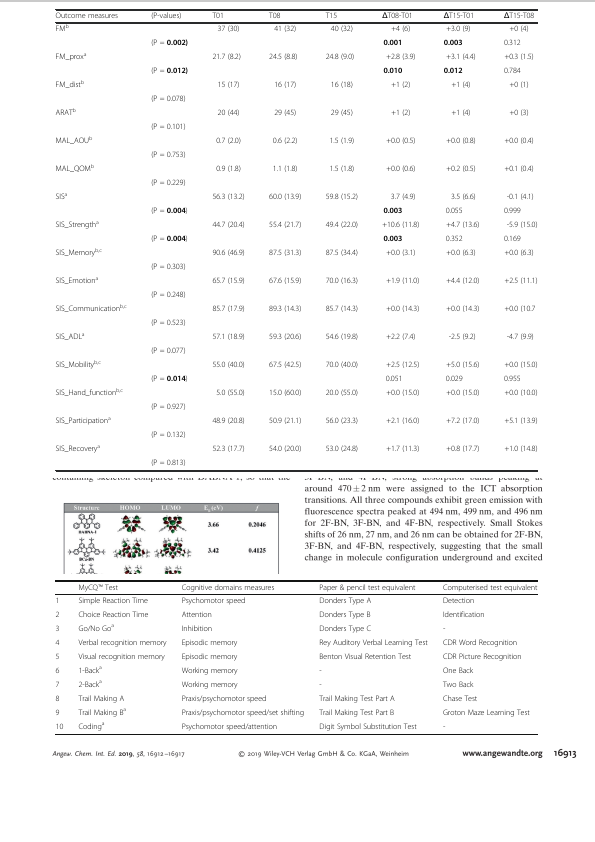borderless: (54, 7, 537, 470), (55, 579, 538, 734)
cell: (181, 708, 305, 718), (318, 638, 429, 648), (318, 722, 418, 732), (181, 722, 278, 732), (318, 652, 412, 662), (77, 638, 167, 648), (77, 652, 166, 662), (442, 708, 531, 718), (318, 583, 416, 592), (442, 583, 538, 592), (181, 694, 267, 704), (181, 583, 275, 592), (442, 652, 523, 662), (55, 303, 128, 314), (318, 694, 396, 704), (318, 708, 395, 718), (442, 638, 518, 648), (55, 387, 124, 398), (77, 596, 149, 606), (77, 610, 149, 620), (181, 596, 246, 606), (55, 415, 112, 426), (77, 706, 127, 718), (181, 666, 239, 676), (181, 680, 239, 690), (55, 12, 119, 21), (181, 638, 238, 648), (181, 652, 238, 662), (318, 596, 372, 606), (318, 624, 372, 634), (318, 610, 371, 620), (55, 247, 103, 258), (55, 359, 102, 370), (55, 443, 101, 454), (55, 219, 100, 230), (55, 275, 99, 286), (77, 694, 125, 704), (77, 622, 115, 634), (55, 163, 95, 174), (442, 610, 485, 620), (55, 135, 93, 146), (77, 583, 119, 592), (442, 694, 478, 704), (55, 51, 87, 62), (150, 39, 189, 48), (150, 67, 189, 76), (150, 207, 189, 216), (381, 221, 420, 230), (150, 235, 189, 244), (150, 375, 189, 384), (77, 720, 105, 732), (442, 596, 475, 606), (55, 79, 85, 90), (55, 331, 85, 342), (150, 95, 186, 104), (150, 123, 186, 132), (150, 151, 186, 160), (150, 179, 186, 188), (150, 263, 186, 272), (150, 291, 186, 300), (150, 319, 186, 328), (150, 347, 186, 356), (150, 403, 186, 412), (150, 431, 186, 440), (150, 459, 186, 468), (181, 610, 213, 620), (181, 624, 213, 634), (442, 666, 474, 676), (442, 680, 474, 690), (211, 193, 246, 202), (211, 221, 246, 230), (445, 221, 480, 230), (211, 249, 246, 258), (211, 277, 246, 286), (385, 277, 420, 286), (445, 277, 480, 286), (503, 277, 538, 286), (211, 305, 246, 314), (385, 305, 420, 314), (445, 305, 480, 314), (211, 333, 246, 342), (211, 361, 246, 370), (385, 361, 420, 370), (445, 361, 480, 370), (503, 361, 538, 370), (385, 389, 420, 398), (445, 389, 480, 398), (503, 389, 538, 398), (211, 417, 246, 426), (385, 417, 420, 426), (445, 417, 480, 426), (503, 417, 538, 426), (211, 445, 246, 454), (385, 445, 420, 454), (445, 445, 480, 454), (503, 445, 538, 454), (77, 664, 103, 676), (77, 678, 103, 690), (268, 193, 302, 202), (325, 193, 359, 202), (268, 221, 302, 230), (325, 221, 359, 230), (268, 249, 302, 258), (325, 249, 359, 258), (268, 277, 302, 286), (325, 277, 359, 286), (268, 305, 302, 314), (325, 305, 359, 314), (268, 333, 302, 342), (325, 333, 359, 342), (268, 361, 302, 370), (325, 361, 359, 370), (268, 389, 302, 398), (325, 389, 359, 398), (268, 417, 302, 426), (325, 417, 359, 426), (268, 445, 302, 454), (325, 445, 359, 454), (381, 12, 414, 21), (503, 305, 536, 314), (150, 12, 182, 21), (443, 12, 475, 21), (503, 12, 535, 21), (445, 53, 477, 62), (503, 53, 535, 62), (445, 137, 477, 146), (503, 137, 535, 146), (445, 165, 477, 174), (503, 165, 535, 174), (506, 221, 538, 230), (445, 249, 477, 258), (503, 249, 535, 258), (211, 53, 242, 62), (385, 53, 416, 62), (385, 137, 416, 146), (385, 165, 416, 174), (385, 249, 416, 258), (385, 333, 416, 342), (215, 389, 246, 398), (268, 53, 298, 62), (325, 53, 355, 62), (506, 193, 535, 202), (448, 333, 477, 342), (506, 333, 535, 342), (215, 137, 242, 146), (328, 137, 355, 146), (215, 165, 242, 174), (328, 165, 355, 174), (450, 193, 477, 202), (55, 107, 77, 118), (445, 25, 471, 34), (272, 137, 298, 146), (272, 165, 298, 174), (390, 193, 416, 202), (273, 25, 297, 34), (330, 25, 354, 34), (273, 81, 297, 90), (330, 81, 354, 90), (273, 109, 297, 118), (330, 109, 354, 118), (217, 25, 240, 34), (217, 81, 240, 90), (217, 109, 240, 118), (390, 25, 411, 34), (508, 25, 529, 34), (390, 81, 411, 90), (450, 81, 471, 90), (508, 81, 529, 90), (390, 109, 411, 118), (450, 109, 471, 118), (508, 109, 529, 118), (382, 39, 403, 47), (382, 67, 403, 75), (382, 207, 403, 215), (382, 235, 403, 243), (55, 23, 70, 34), (503, 39, 521, 48), (503, 67, 521, 76), (445, 207, 463, 216), (503, 207, 521, 216), (445, 235, 463, 244), (503, 235, 521, 244), (385, 375, 403, 384), (445, 375, 463, 384), (503, 375, 521, 384), (443, 39, 463, 47), (443, 67, 463, 75), (55, 191, 68, 202), (211, 12, 225, 21), (268, 12, 281, 21), (325, 12, 338, 21), (55, 722, 64, 732), (54, 596, 60, 606), (54, 610, 60, 620), (54, 624, 60, 634), (55, 638, 60, 648), (55, 652, 60, 662), (55, 666, 60, 676), (318, 666, 323, 676), (55, 680, 60, 690), (318, 680, 323, 690), (55, 694, 60, 704), (55, 708, 60, 718), (442, 624, 446, 634), (442, 722, 446, 732)
